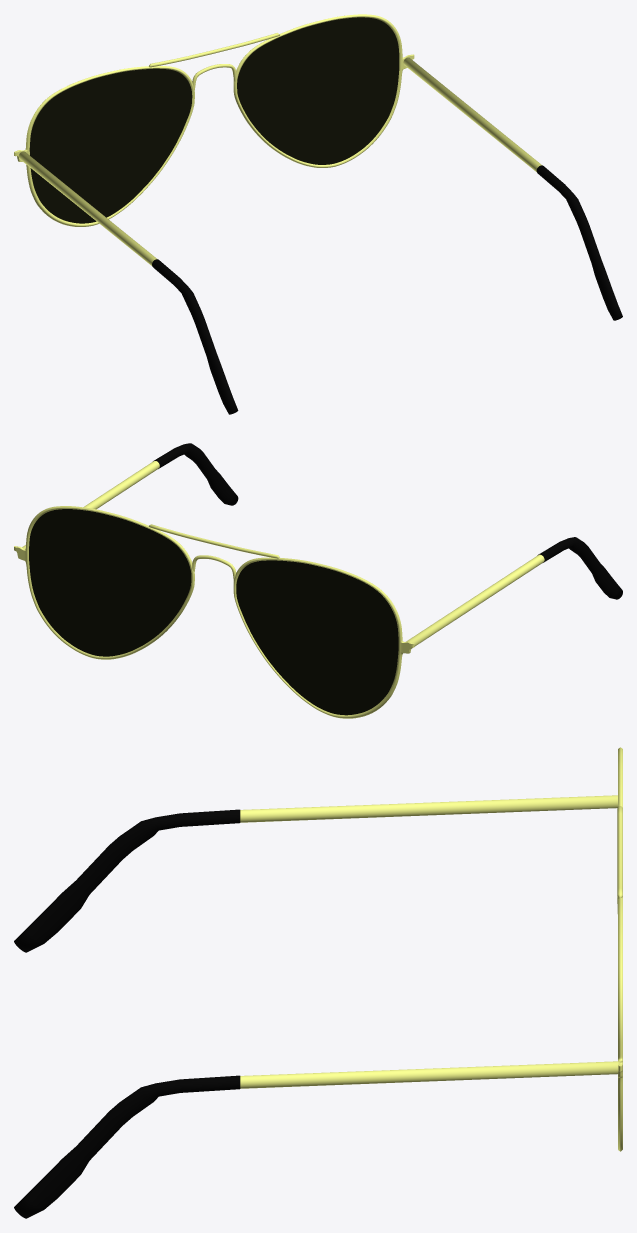
The model's file is glass.glb.
The picture shows the model from 3 angles, top to bottom: view 1: azimuth 30°, elevation 25°; view 2: azimuth 150°, elevation 25°; view 3: azimuth 270°, elevation 25°; orthographic projection. The views are drawn at different scales.
Visible parts, largest first — view 1: Circle.001; view 2: Circle.001; view 3: Circle.001.
Boxes of the visible parts, x1,y1,x2,y2 form: Circle.001: [14, 14, 622, 414]; Circle.001: [14, 443, 622, 718]; Circle.001: [14, 747, 622, 1218].
Size of the model in its own units: 2 by 0.7992 by 1.86.
